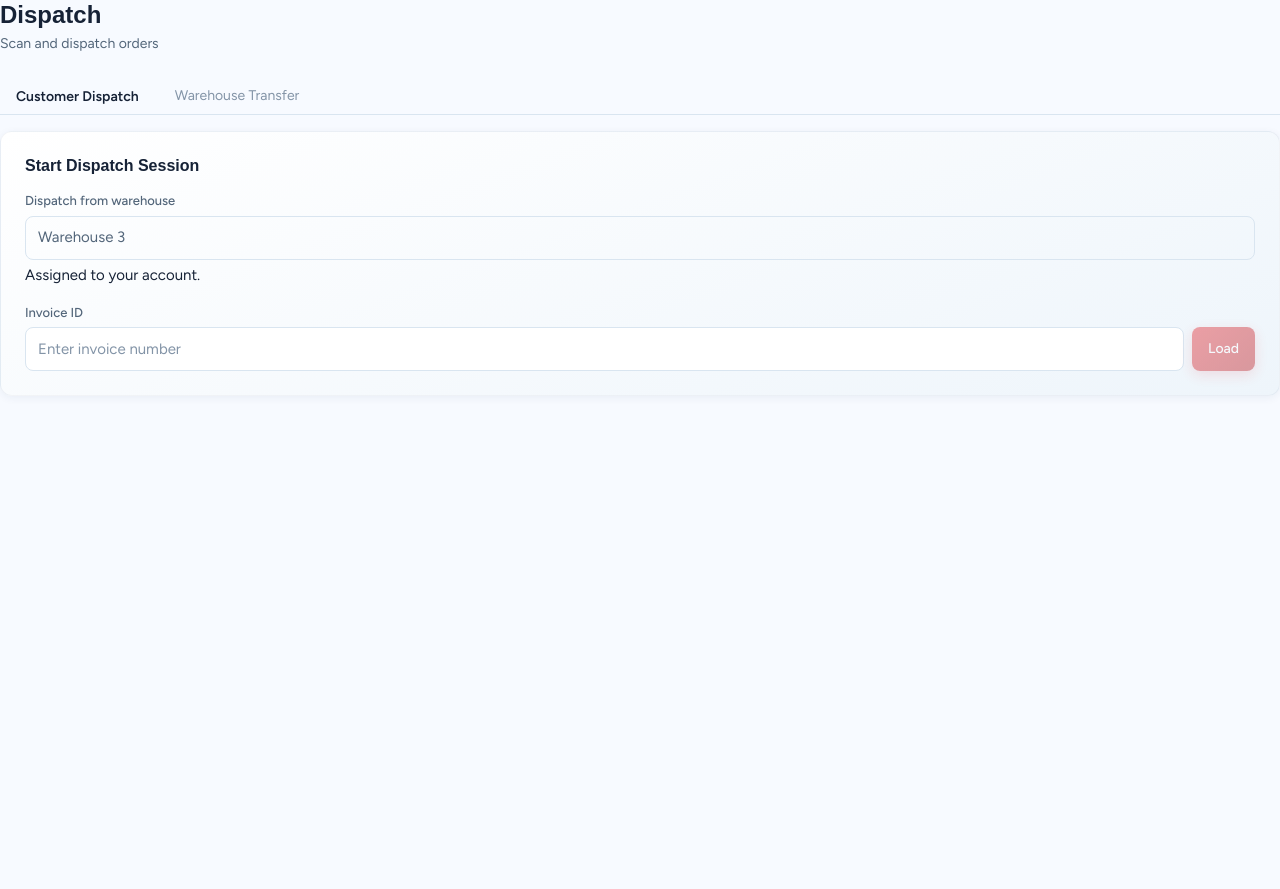
Test: DispatchPage — scan flows › invalid scan renders the alert rule code
In the field labelled "Invoice ID": (605, 349) [25,327,1184,371], type "1"
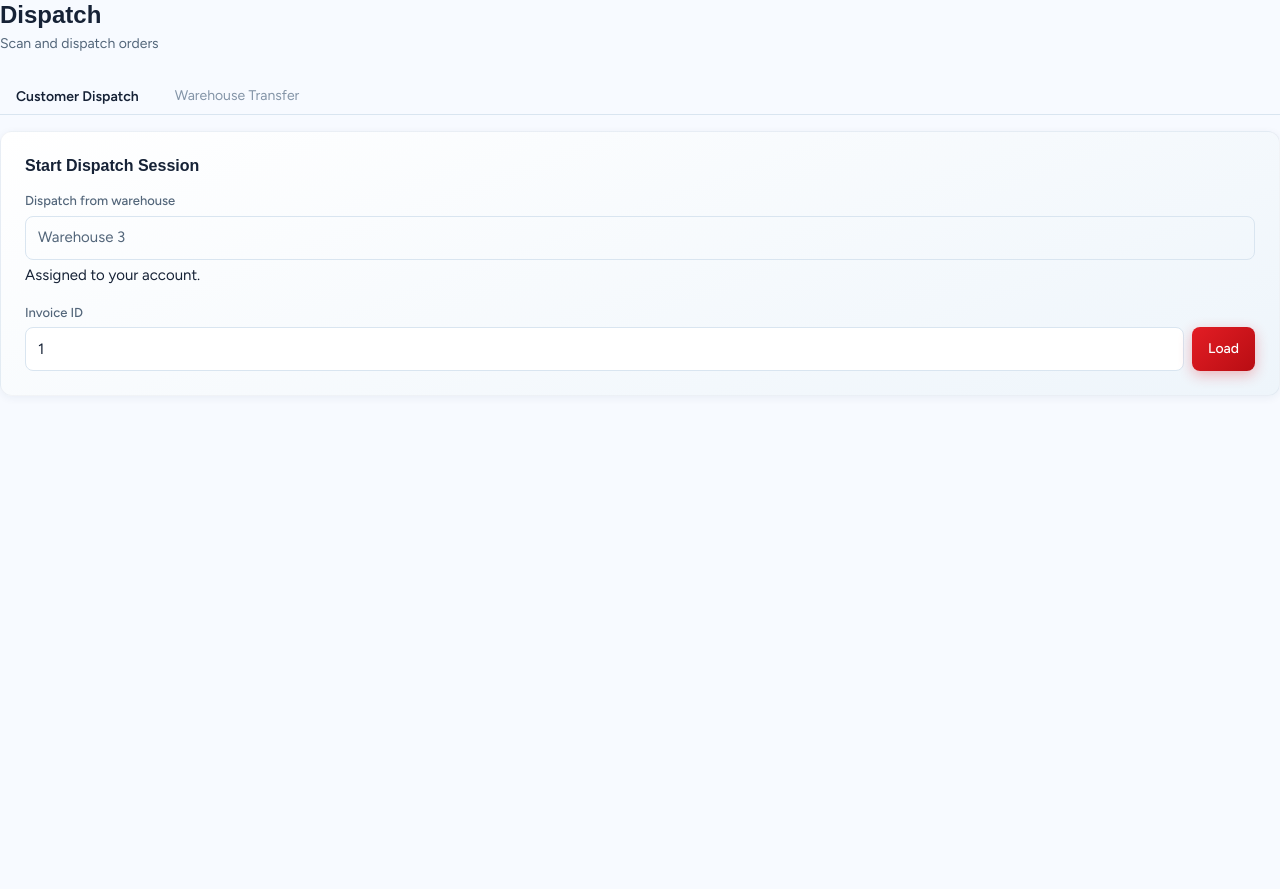
Click the button "Load": (1224, 349) [1192,327,1255,371]
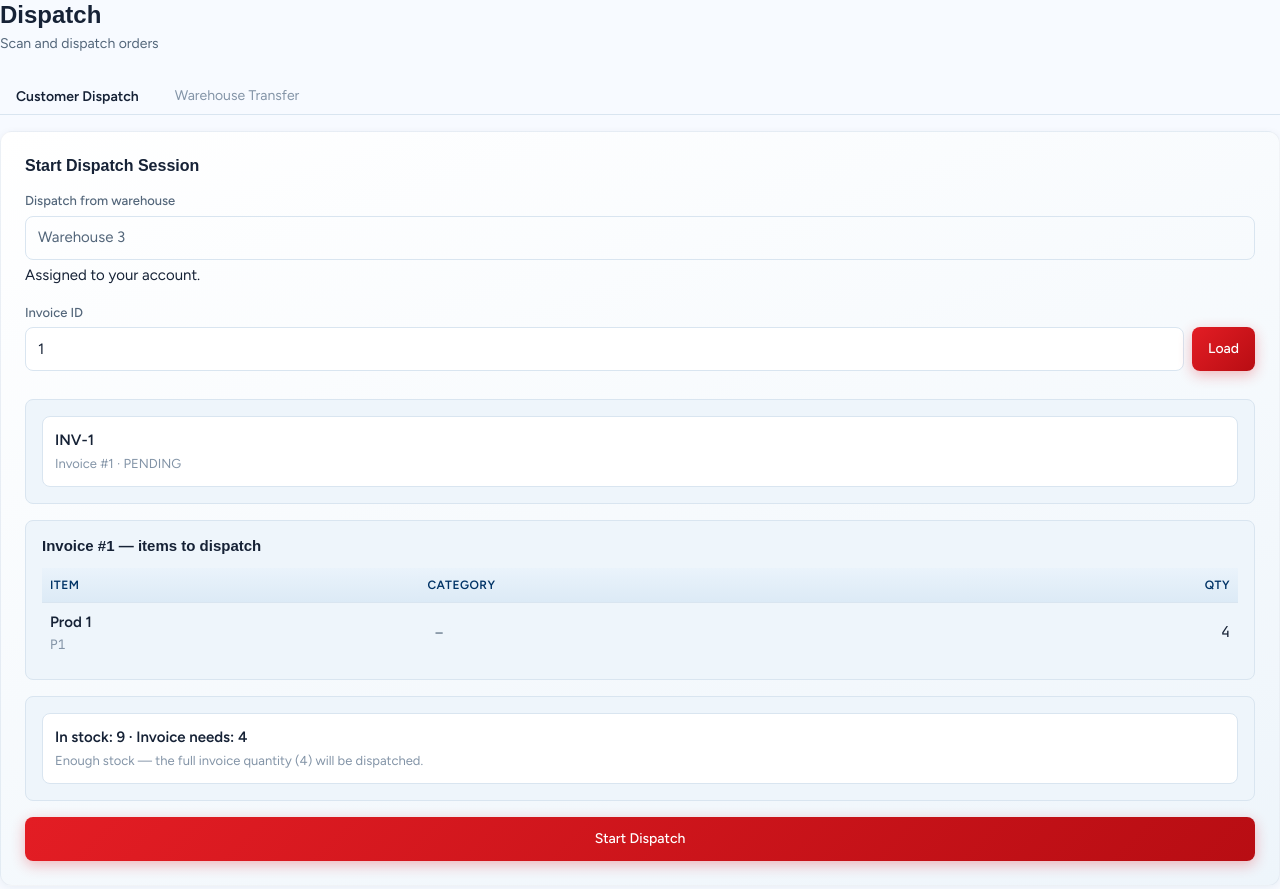
Now the text "In stock: 9 · Invoice needs: 4" is shown, box [55,728,247,746]
Click the button "Start Dispatch": (640, 839) [25,817,1255,861]
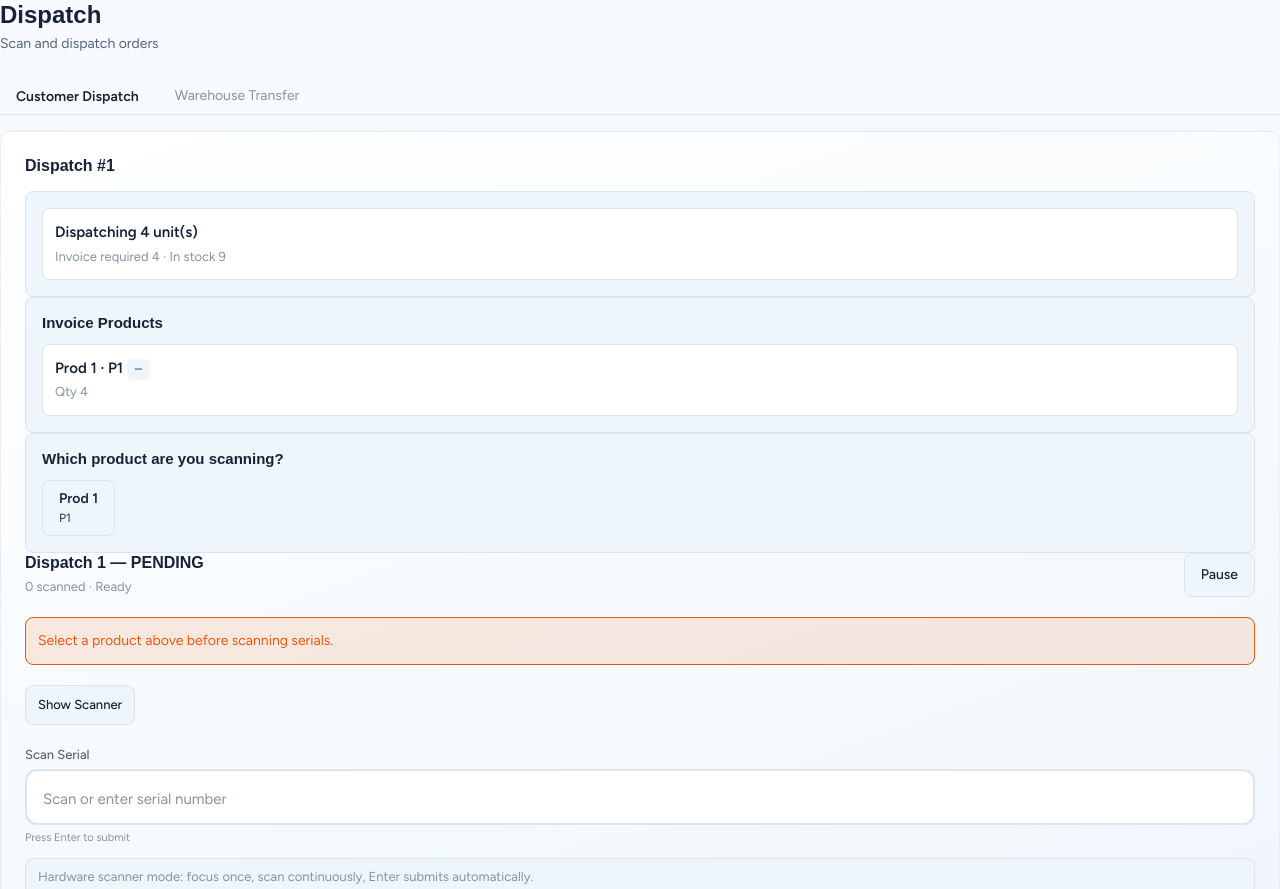
Now the heading "Dispatch #1" is shown, box [25,156,115,176]
Click the button "Prod 1 P1": (78, 508) [42,480,115,536]
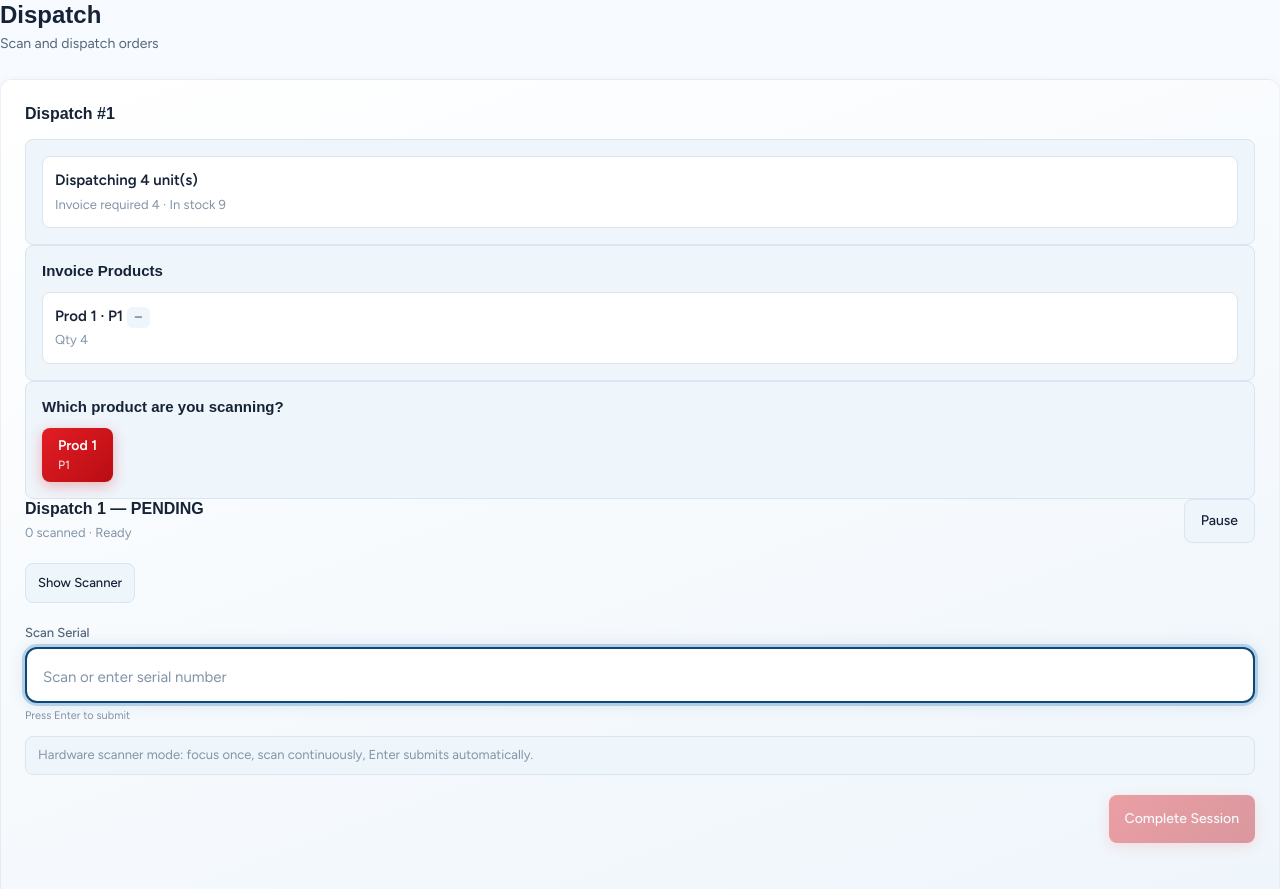
In the field labelled "Scan Serial": (640, 675) [25,647,1255,703], type "S-1"
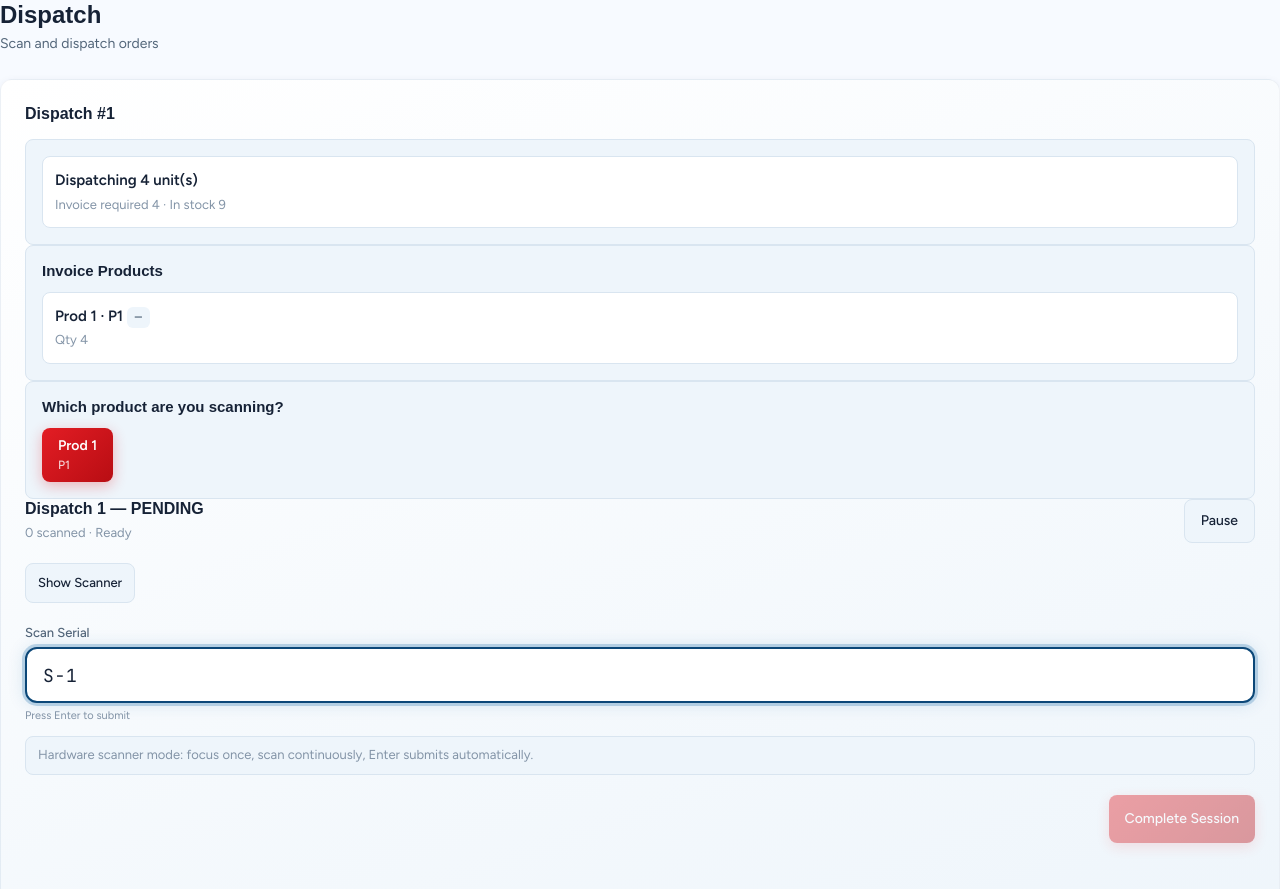
Press Enter in the field labelled "Scan Serial", box [25,647,1255,703]
(page scrolled)
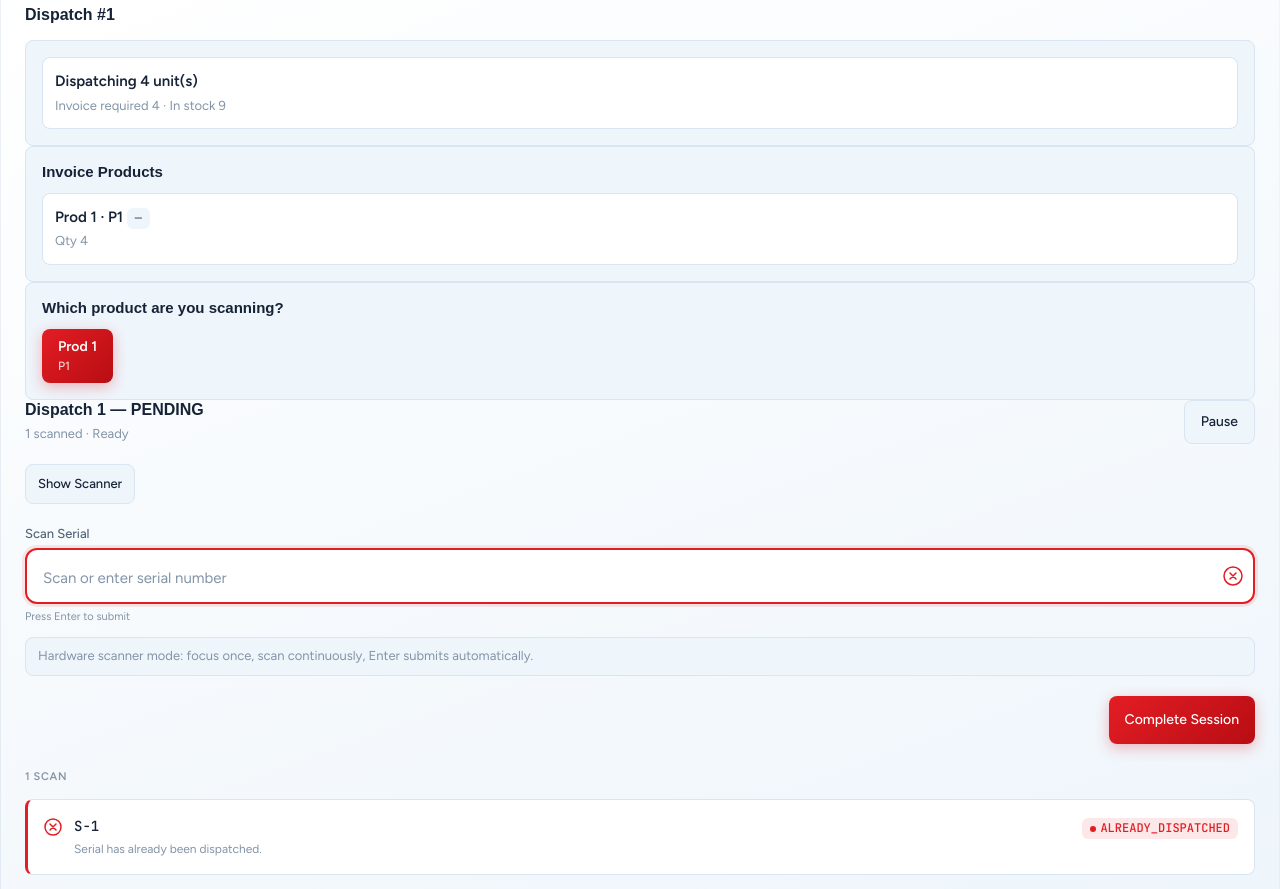
Now the text "ALREADY_DISPATCHED" is shown, box [1082,818,1238,839]
